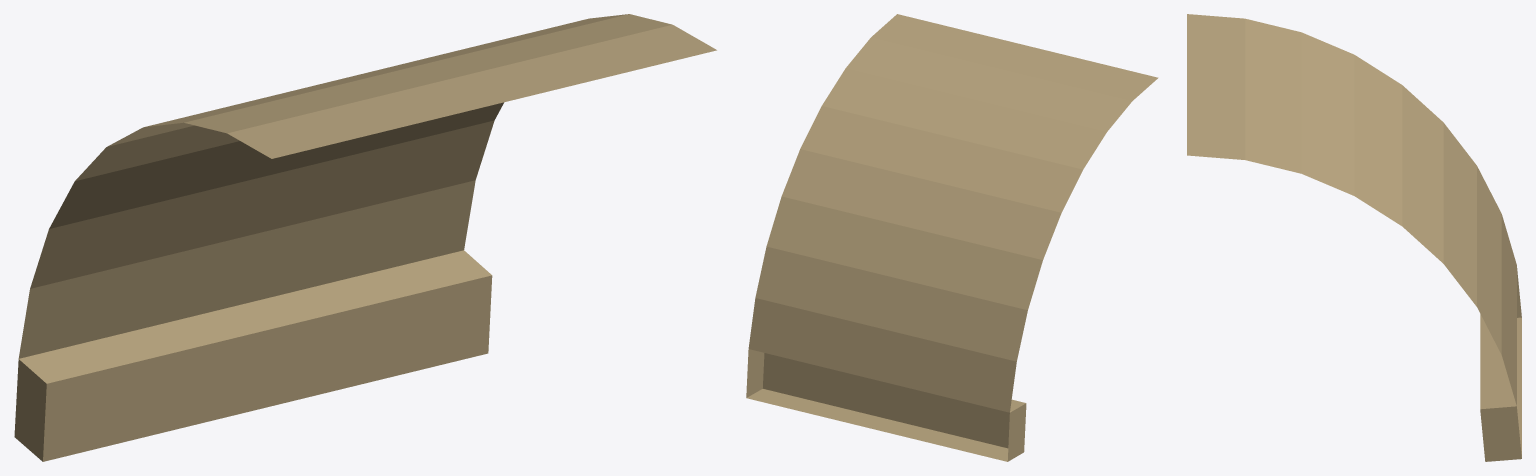
Rendered from Wall_Arch_Side_Sewer_Environment.FBX.
The picture shows the model from 3 angles, left to right: view 1: azimuth 30°, elevation 25°; view 2: azimuth 150°, elevation 25°; view 3: azimuth 270°, elevation 25°; orthographic projection. The views are drawn at different scales.
Parts seen in each view (by area): view 1: Wandschräge; view 2: Wandschräge; view 3: Wandschräge.
Boxes of the visible parts, x1,y1,x2,y2 form: Wandschräge: (14,14,716,461); Wandschräge: (746,14,1158,461); Wandschräge: (1187,14,1521,461).
Bounding box in the file's own units: 100 × 101 × 100.
